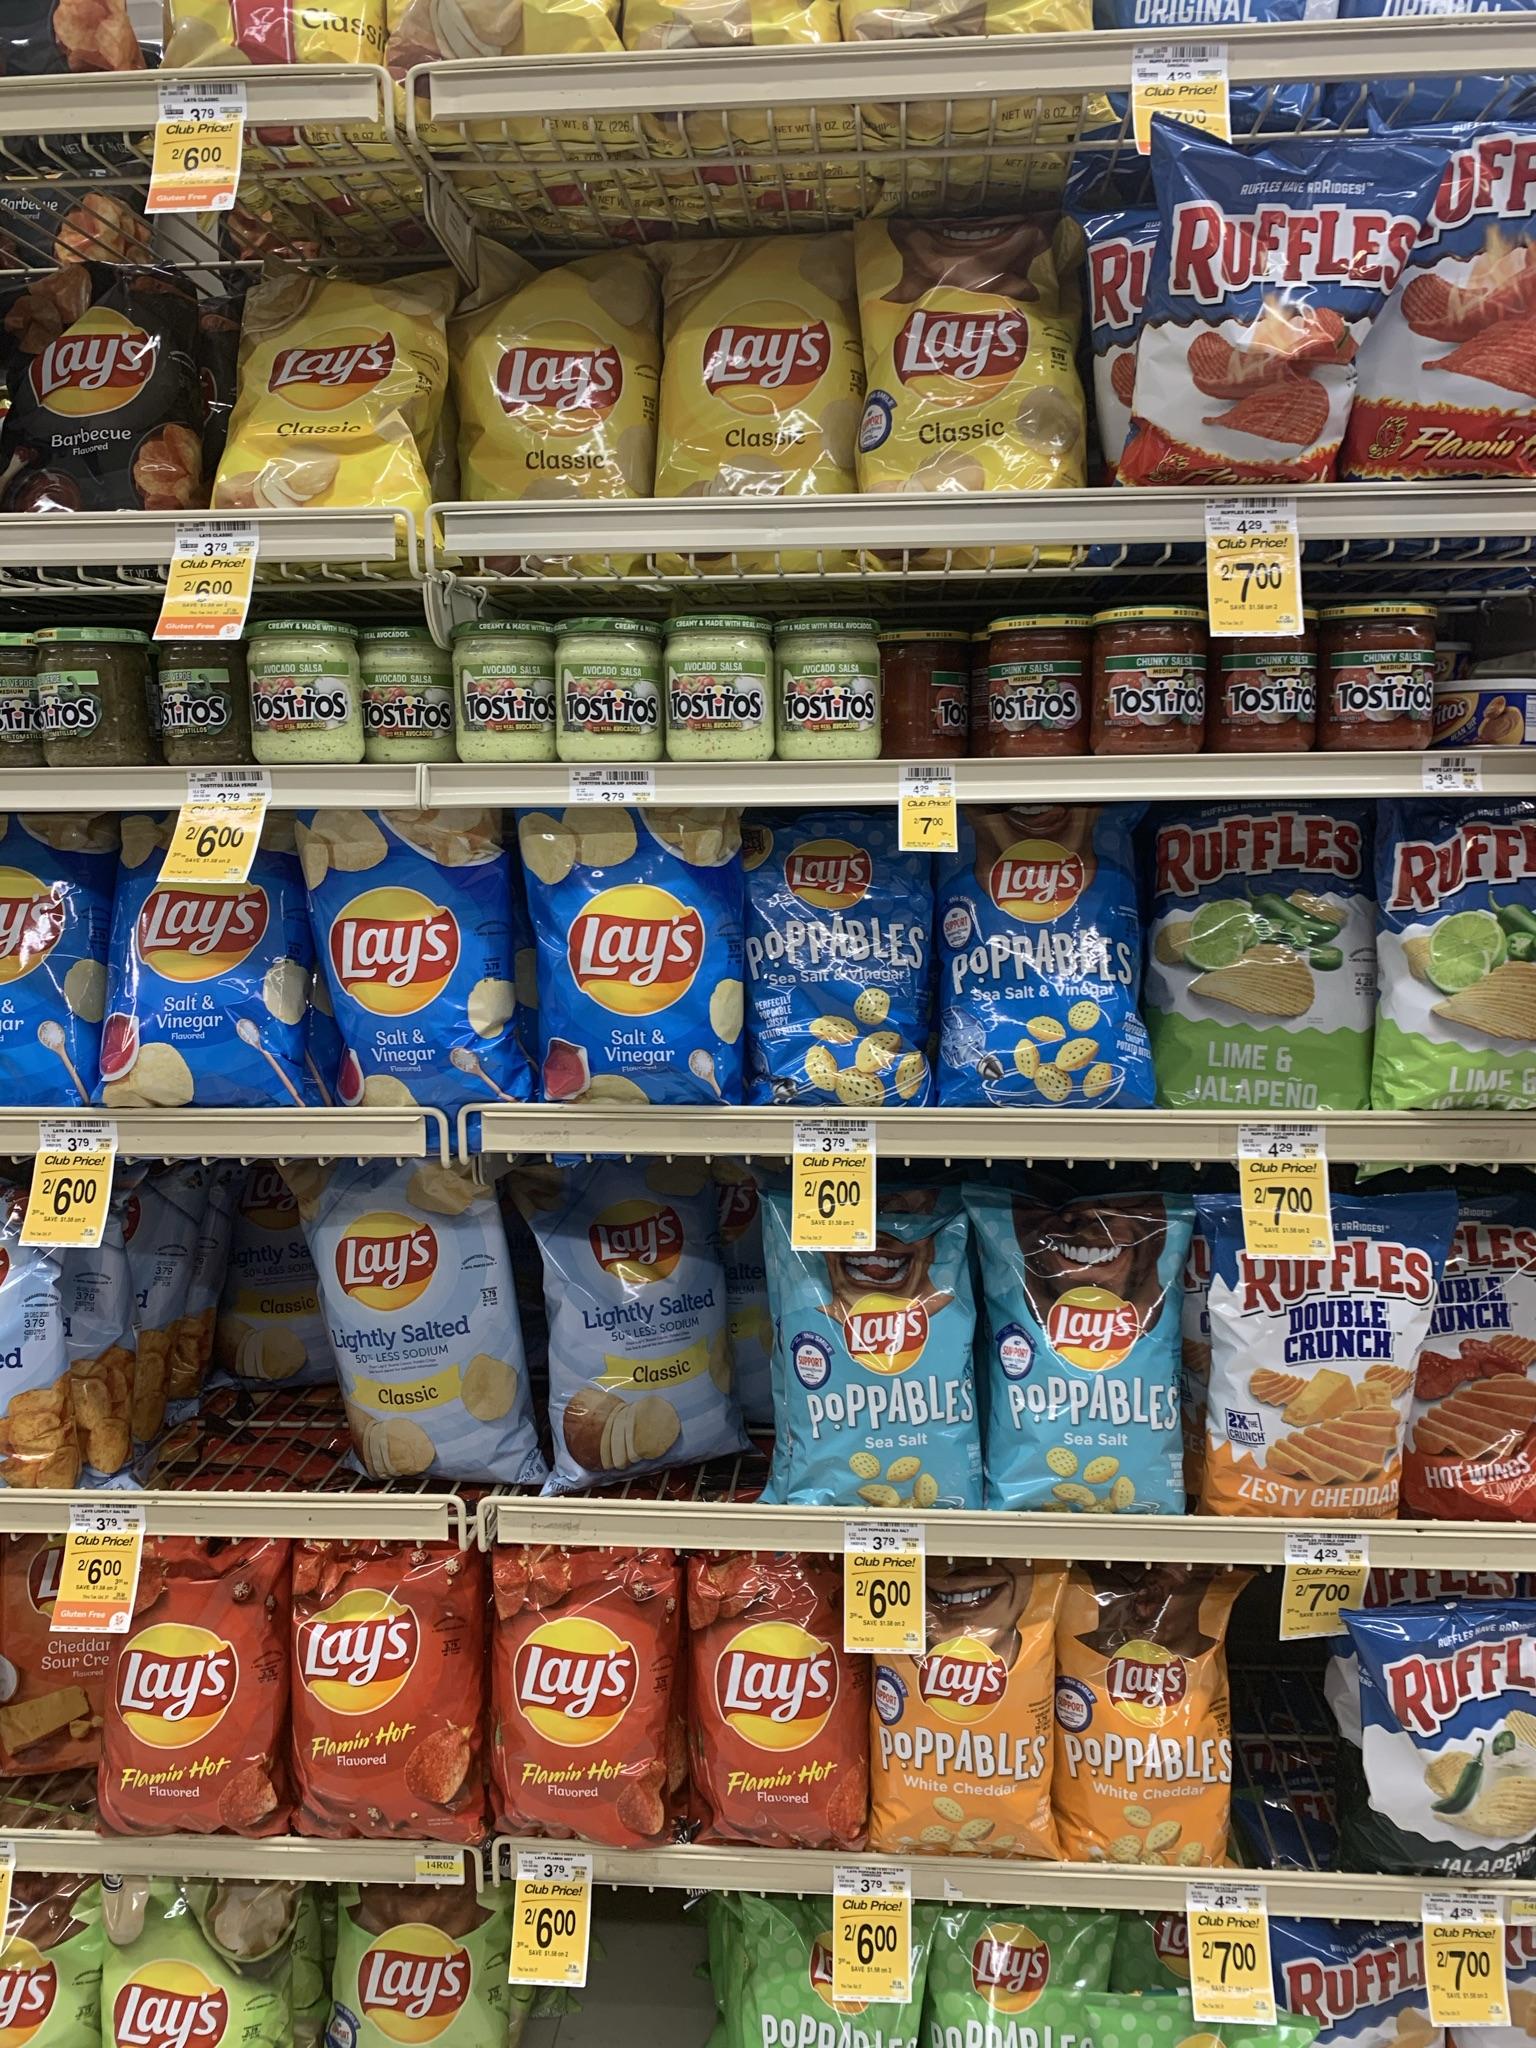chip: (1149, 126, 1417, 514), (311, 1172, 532, 1496), (516, 793, 728, 1113), (526, 1188, 745, 1484), (1155, 793, 1360, 1105), (849, 218, 1078, 493), (298, 797, 503, 1093), (652, 231, 858, 498), (11, 239, 202, 513), (963, 798, 1125, 1108), (302, 1567, 478, 1851), (452, 248, 639, 508), (231, 269, 424, 518), (1383, 805, 1536, 1113), (1352, 1622, 1536, 1879), (507, 1550, 670, 1838), (757, 818, 912, 1119), (124, 813, 282, 1106), (118, 1587, 282, 1843), (894, 1585, 1041, 1871), (1063, 1592, 1212, 1866), (697, 1579, 842, 1834)
